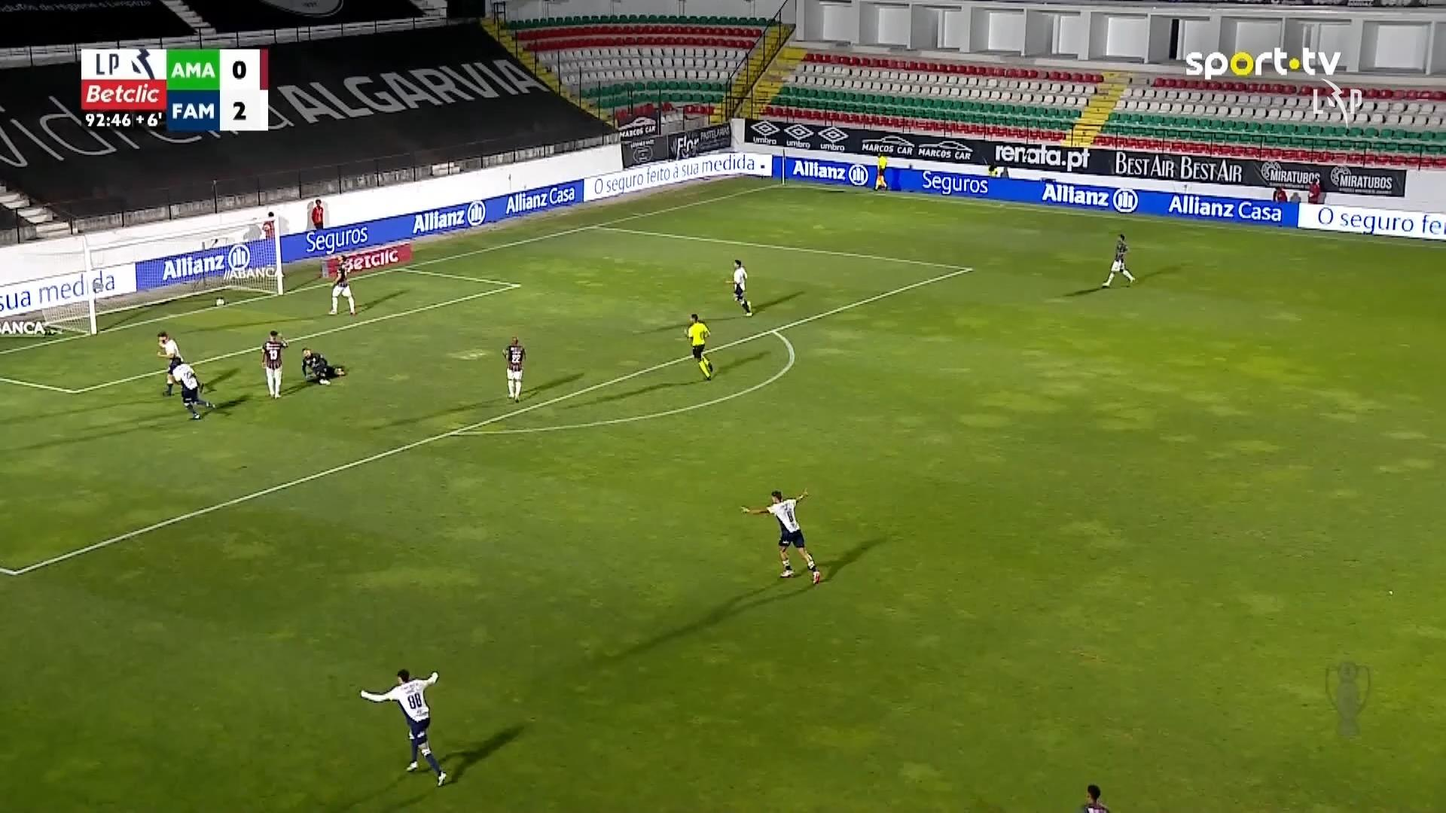ball: (215, 297, 224, 306)
goalkeeper: (300, 347, 346, 385)
player: (358, 667, 447, 787), (739, 487, 822, 585), (171, 358, 215, 419), (1101, 233, 1135, 288), (261, 329, 288, 398), (155, 330, 182, 396), (328, 254, 356, 315), (502, 336, 526, 402), (727, 258, 752, 316), (1081, 783, 1109, 811)
referee: (684, 312, 714, 381), (874, 149, 888, 191)
